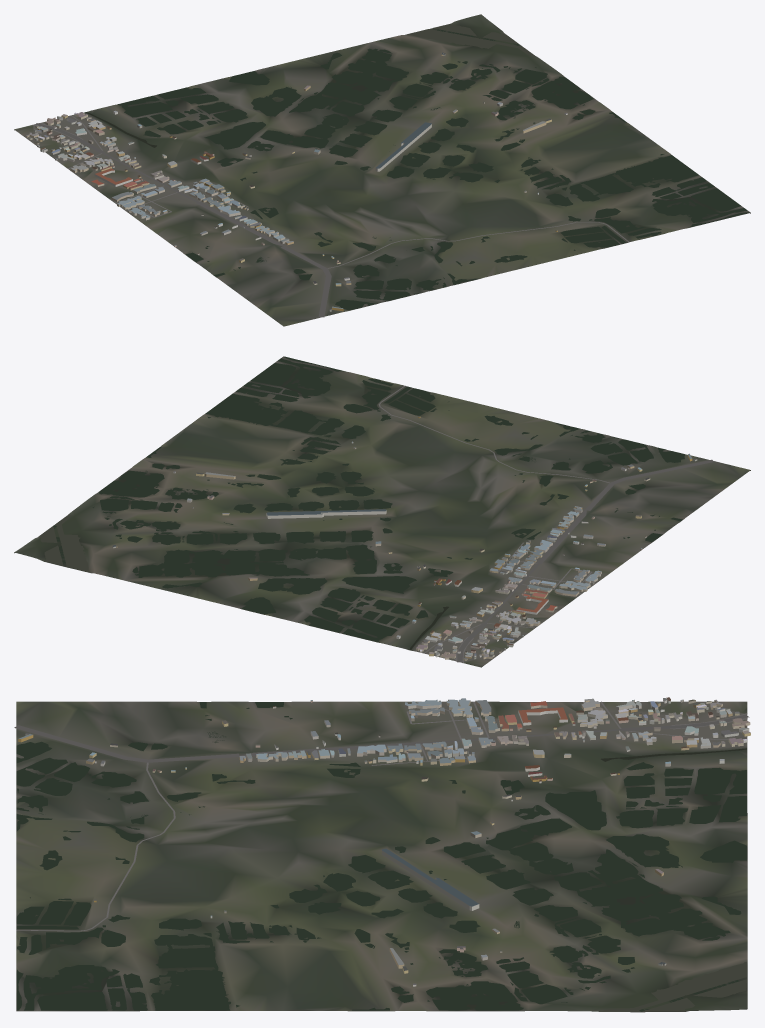
The picture shows the model from 3 angles, top to bottom: view 1: azimuth 30°, elevation 25°; view 2: azimuth 150°, elevation 25°; view 3: azimuth 270°, elevation 25°; orthographic projection. The views are drawn at different scales.
Parts seen in each view (by area): view 1: ground, water, buildings, roads; view 2: ground, water, buildings, roads; view 3: ground, water, buildings, roads.
Boxes of the visible parts, x1,y1,x2,y2 form: ground: (14,14,750,326); water: (85,24,749,310); buildings: (26,52,567,311); roads: (32,115,629,317); ground: (14,356,750,667); water: (39,356,684,649); buildings: (112,416,697,660); roads: (378,385,713,662); ground: (16,701,747,1012); water: (16,702,746,1011); buildings: (18,697,750,986); roads: (14,701,749,931).
Size of the model in its own units: 1409 by 14.99 by 1411.
